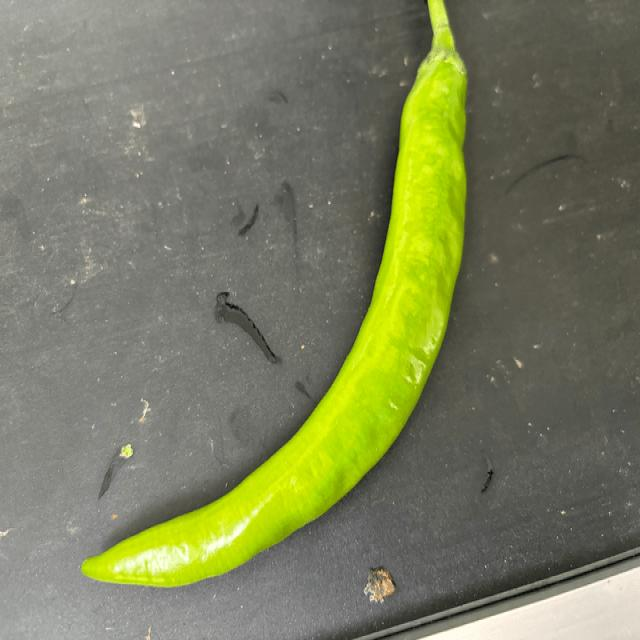chili: (79, 42, 470, 591)
